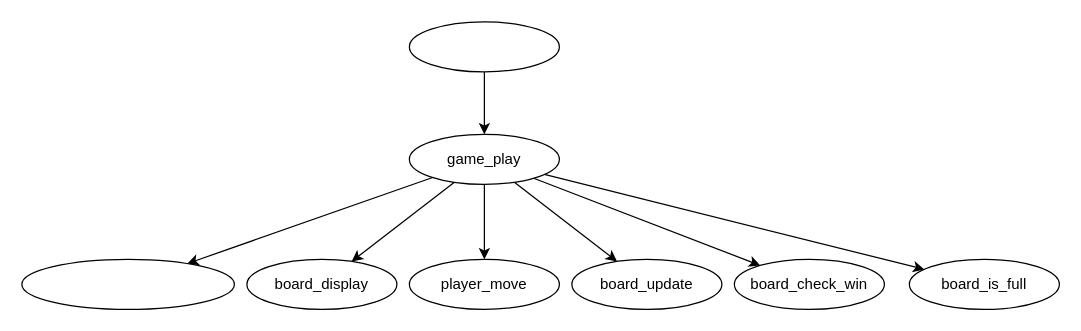
This 1081x331 diagram has some shape labels left out. The centre of each missing label's shape, as x and y in pixels:
"game_display_instructions" goes at pixel 127 283.
"main" goes at pixel 483 46.
